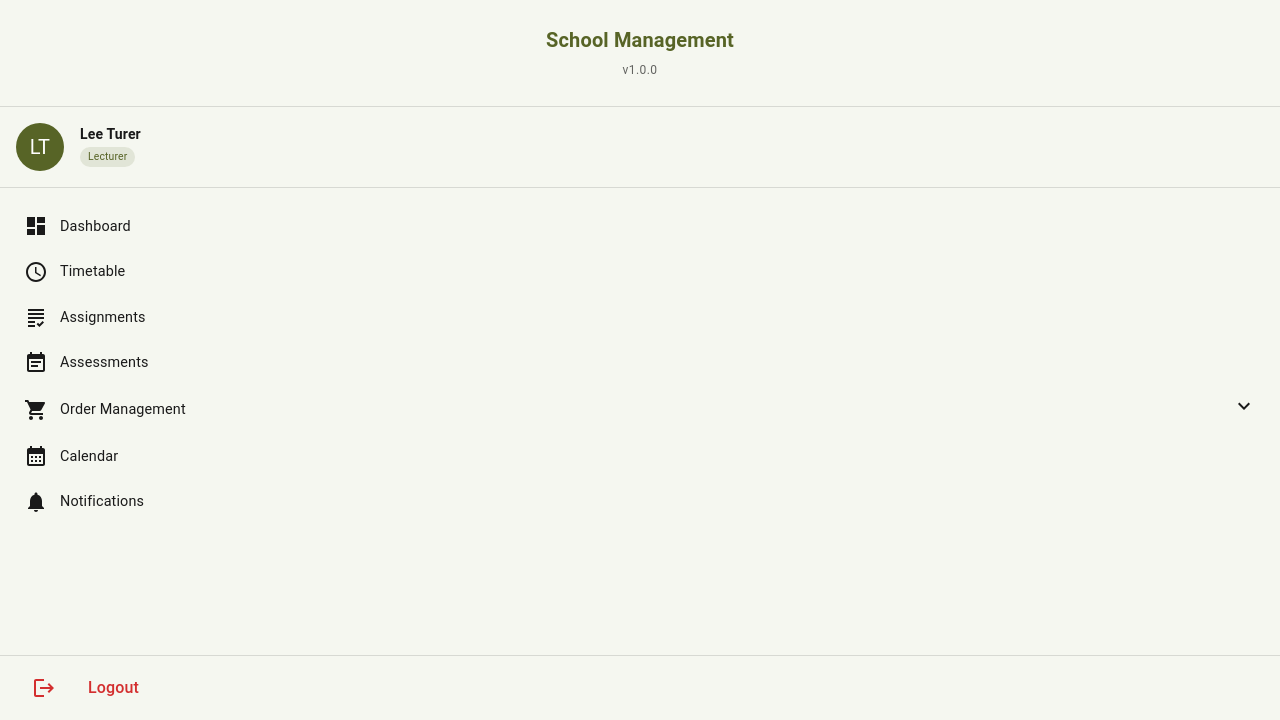
OMS navigation › hides the New Order link from view-only Lecturers
Click the button "Order Management" at {"x": 123, "y": 410}, box [24,394,1256,422]
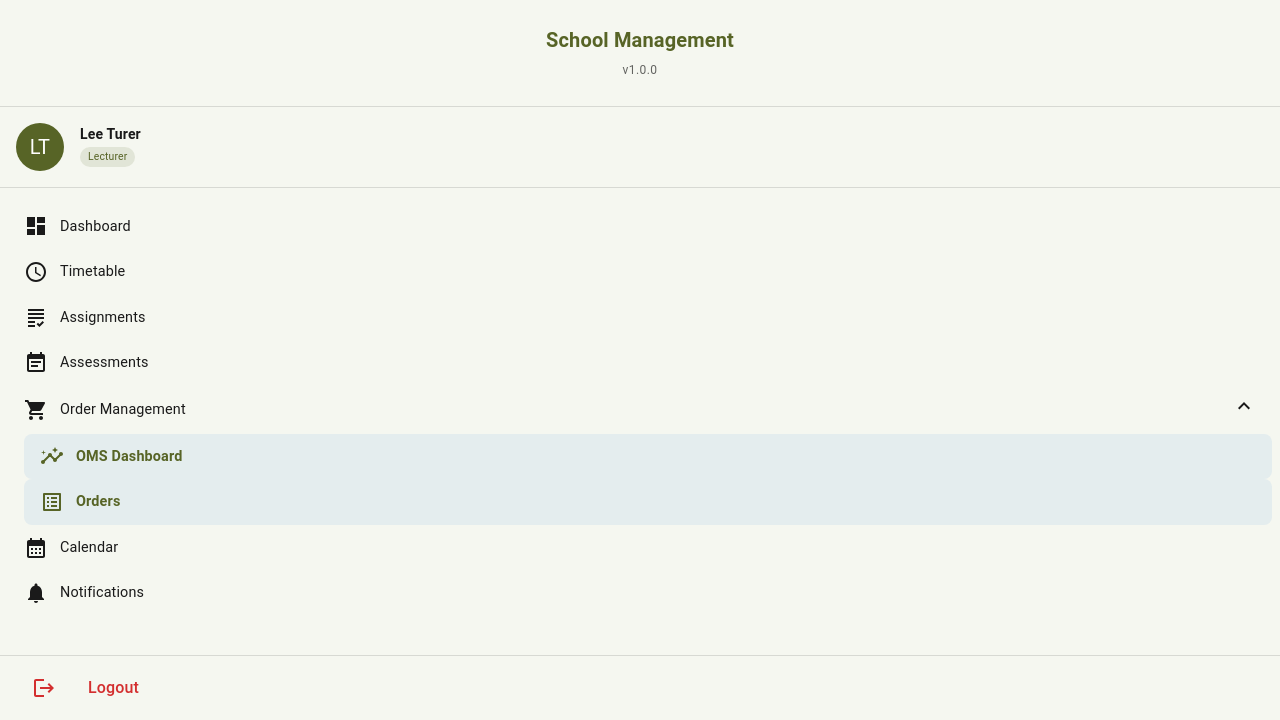
Now the text "OMS Dashboard" is shown, box [76,448,182,465]
